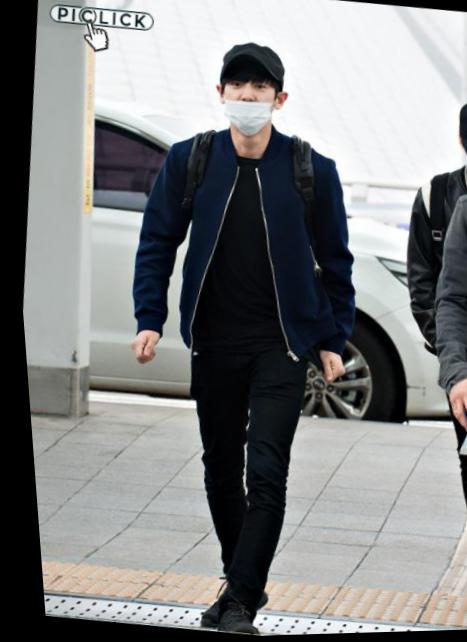WRONG: (214, 67, 290, 141)
